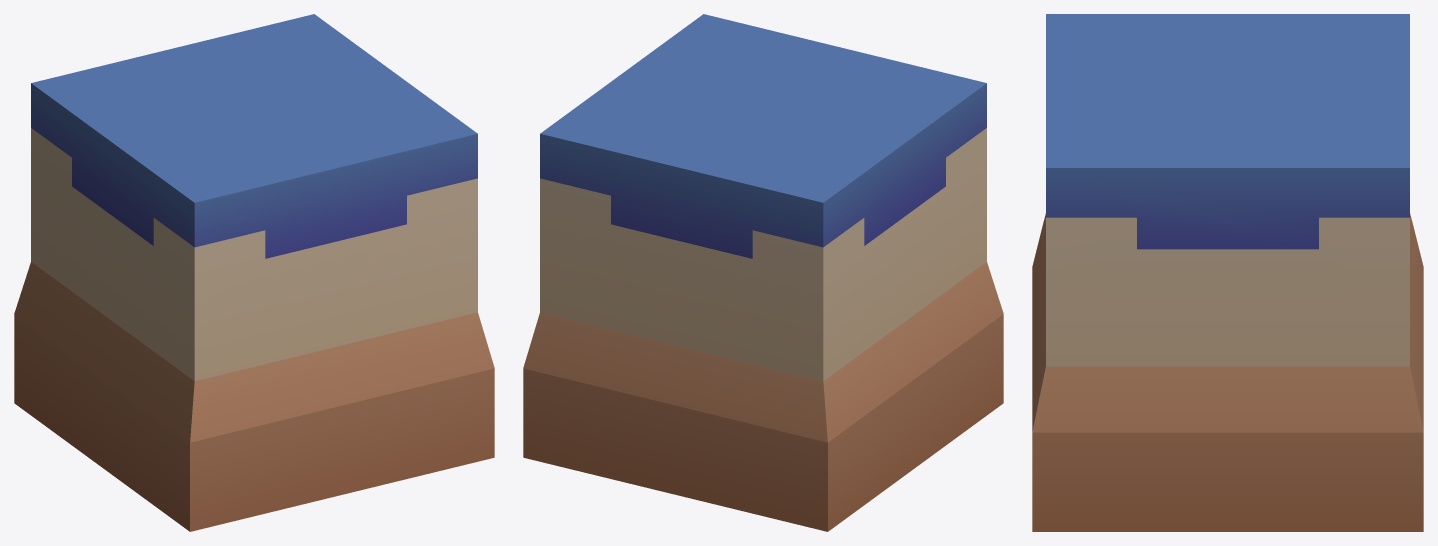
The model's file is tower-square-base-color.glb.
3 views of the same model, side by side, from view 1: azimuth 30°, elevation 25°; view 2: azimuth 150°, elevation 25°; view 3: azimuth 270°, elevation 25° (orthographic). The views are drawn at different scales.
Parts seen in each view (by area): view 1: tower-square-base-color; view 2: tower-square-base-color; view 3: tower-square-base-color.
Boxes of the visible parts, x1,y1,x2,y2 form: tower-square-base-color: (14, 14, 494, 531); tower-square-base-color: (523, 14, 1003, 531); tower-square-base-color: (1032, 14, 1423, 531).
Size of the model in its own units: 1 by 1.01 by 1.
